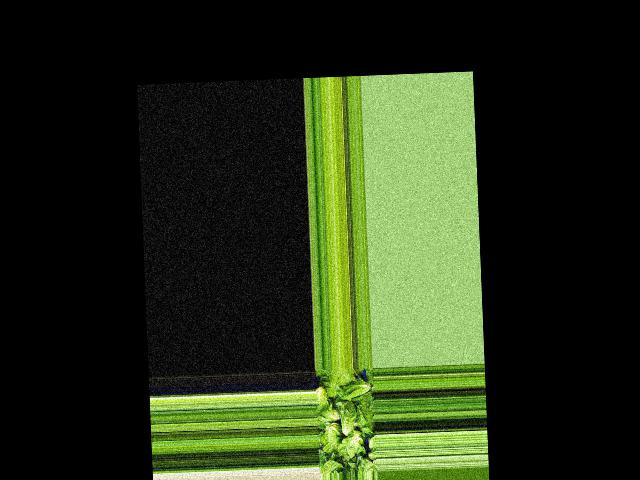lettuce: (315, 381, 330, 416)
